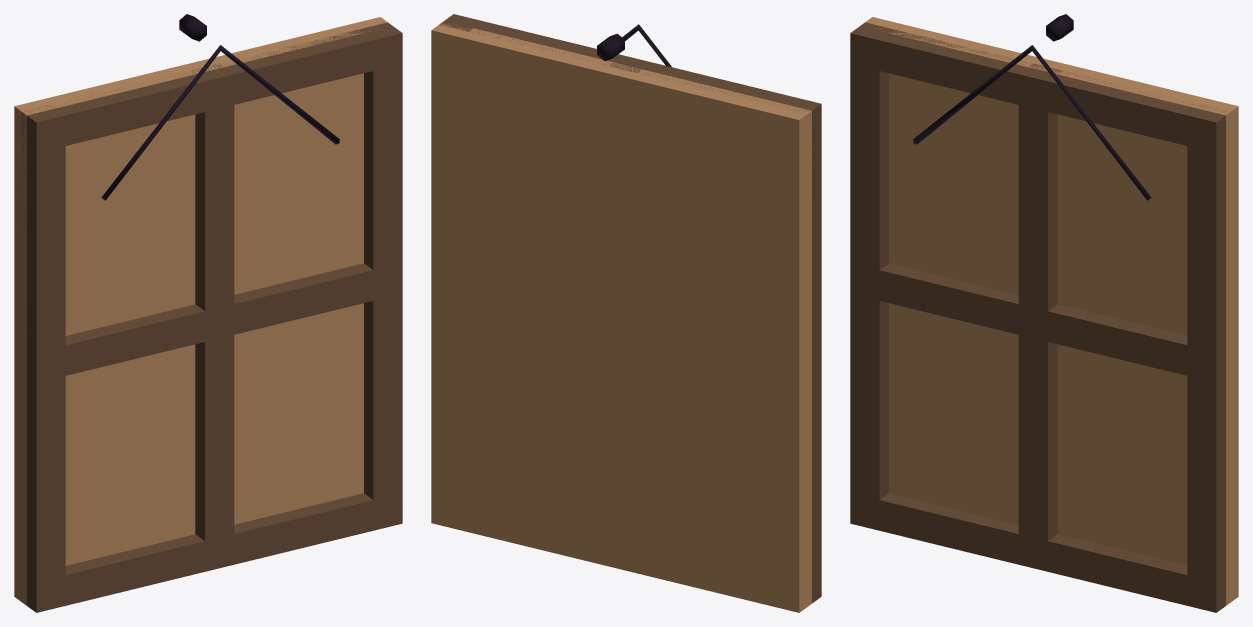
File: portrait_turned.glb
The picture shows the model from 3 angles, left to right: view 1: azimuth 30°, elevation 25°; view 2: azimuth 150°, elevation 25°; view 3: azimuth 330°, elevation 25°; orthographic projection.
Parts seen in each view (by area): view 1: portrait_turned; view 2: portrait_turned; view 3: portrait_turned.
Boxes of the visible parts, bbox=[...] form: portrait_turned: bbox=[14, 14, 402, 612]; portrait_turned: bbox=[431, 14, 821, 612]; portrait_turned: bbox=[850, 14, 1238, 612].
Size of the model in its own units: 0.5 by 0.692 by 0.084.
